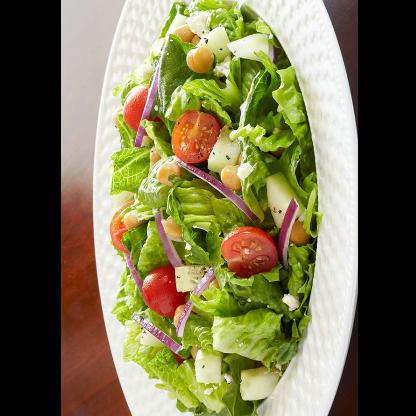salad: (104, 1, 319, 415)
